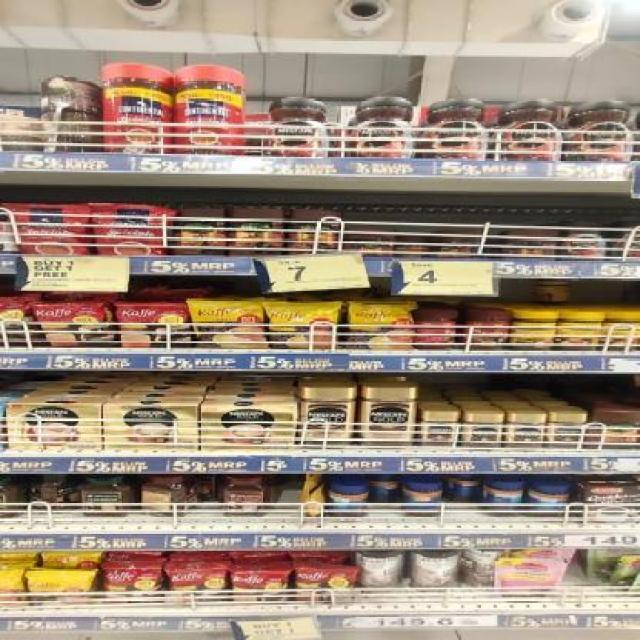Coffee: (263, 96, 331, 158), (496, 98, 563, 160), (570, 100, 637, 161), (424, 98, 490, 159), (353, 97, 415, 158), (302, 387, 354, 449), (363, 387, 414, 448), (562, 223, 608, 259), (464, 413, 505, 449), (420, 412, 458, 450), (510, 413, 546, 449), (548, 414, 584, 448)
